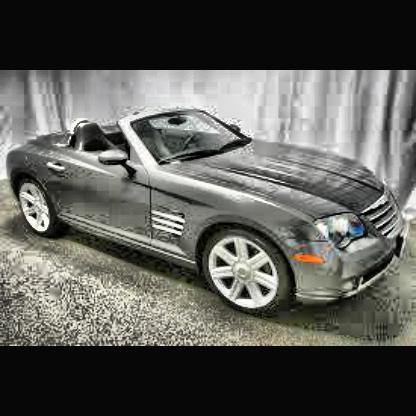Chrysler Crossfire Convertible 2008: (7, 108, 409, 319)
